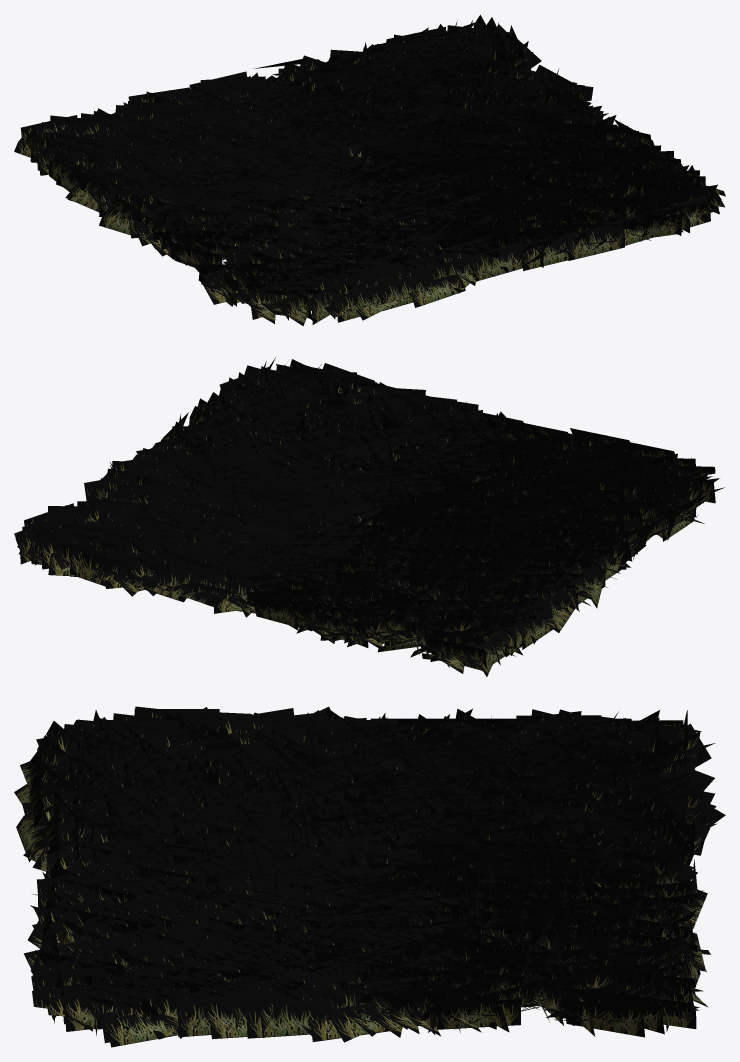
File: SM_Grass_11.fbx
3 renders of one model, top to bottom at view 1: azimuth 30°, elevation 25°; view 2: azimuth 150°, elevation 25°; view 3: azimuth 270°, elevation 25°, orthographic. The views are drawn at different scales.
Parts seen in each view (by area): view 1: SM_Grass_11; view 2: SM_Grass_11; view 3: SM_Grass_11.
Boxes of the visible parts, x1,y1,x2,y2 form: SM_Grass_11: (14, 15, 725, 325); SM_Grass_11: (14, 357, 724, 676); SM_Grass_11: (14, 706, 725, 1047).
Bounding box in the file's own units: 98.49 × 4.99 × 93.45.
